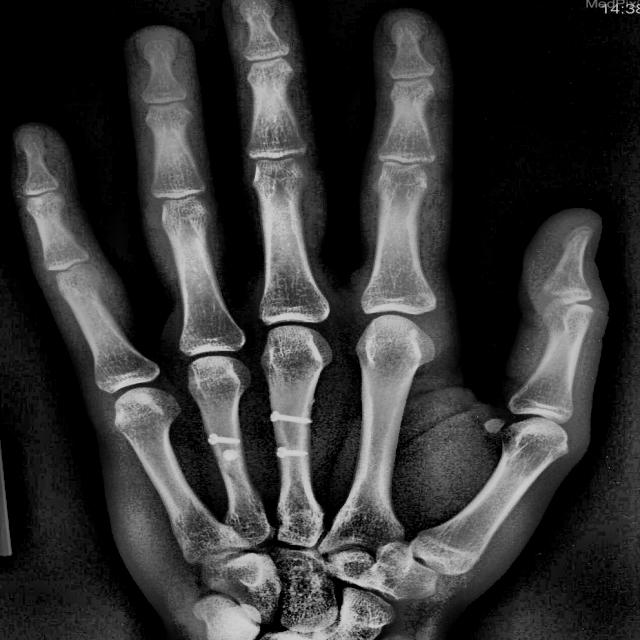fracture: (205, 430, 243, 463), (270, 447, 313, 462), (270, 411, 315, 424)
